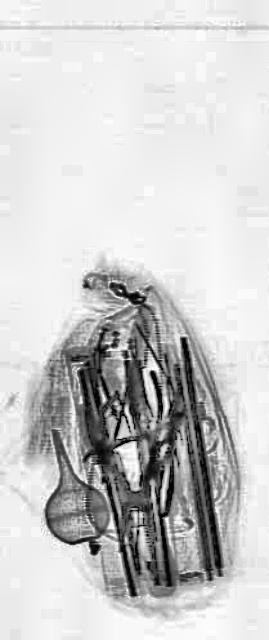Pliers: (93, 367, 165, 556)
